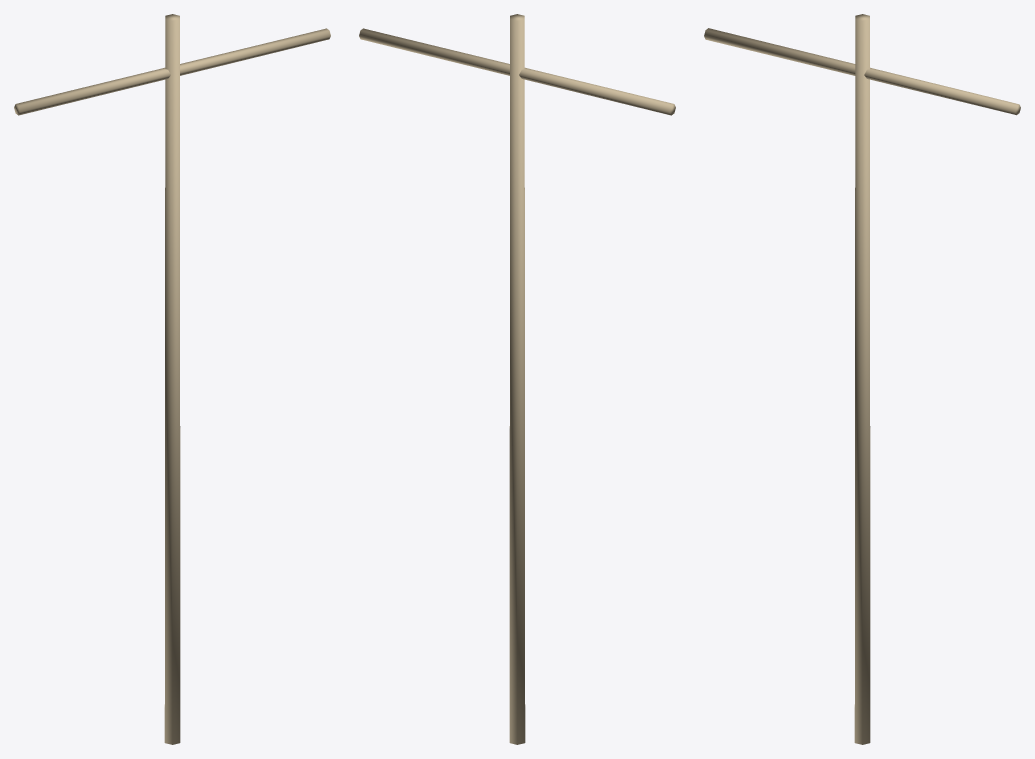
The model's file is antenna.glb.
3 views of the same model, side by side, from view 1: azimuth 30°, elevation 25°; view 2: azimuth 150°, elevation 25°; view 3: azimuth 330°, elevation 25° (orthographic).
Parts seen in each view (by area): view 1: WB002V2_AerialMast.005; view 2: WB002V2_AerialMast.005; view 3: WB002V2_AerialMast.005.
Part boxes in pixels (left/top/right/bottom): WB002V2_AerialMast.005: left=14, top=14, right=330, bottom=744; WB002V2_AerialMast.005: left=359, top=14, right=675, bottom=744; WB002V2_AerialMast.005: left=704, top=14, right=1020, bottom=744.
Size of the model in its own units: 1.8 by 4 by 0.0779.
